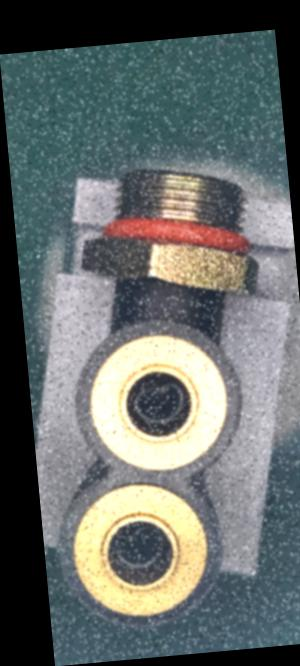off-centered: (107, 514, 168, 580), (124, 376, 189, 429)
